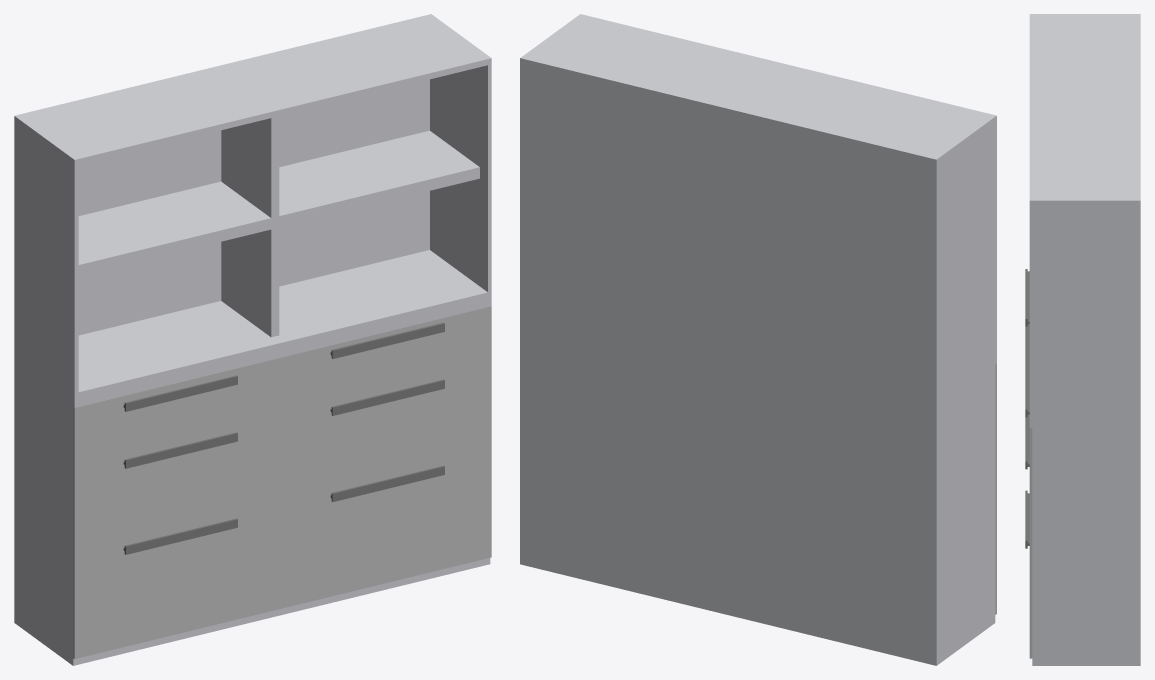
3 views of the same model, side by side, from view 1: azimuth 30°, elevation 25°; view 2: azimuth 150°, elevation 25°; view 3: azimuth 270°, elevation 25° (orthographic). The views are drawn at different scales.
Visible parts, largest first — view 1: 2*3引き出し付き棚; view 2: 2*3引き出し付き棚; view 3: 2*3引き出し付き棚.
Boxes of the visible parts, x1=… form: 2*3引き出し付き棚: x1=14, y1=14, x2=491, y2=665; 2*3引き出し付き棚: x1=520, y1=14, x2=996, y2=665; 2*3引き出し付き棚: x1=1025, y1=14, x2=1140, y2=665.
Bounding box in the file's own units: 170 × 44.33 × 198.
